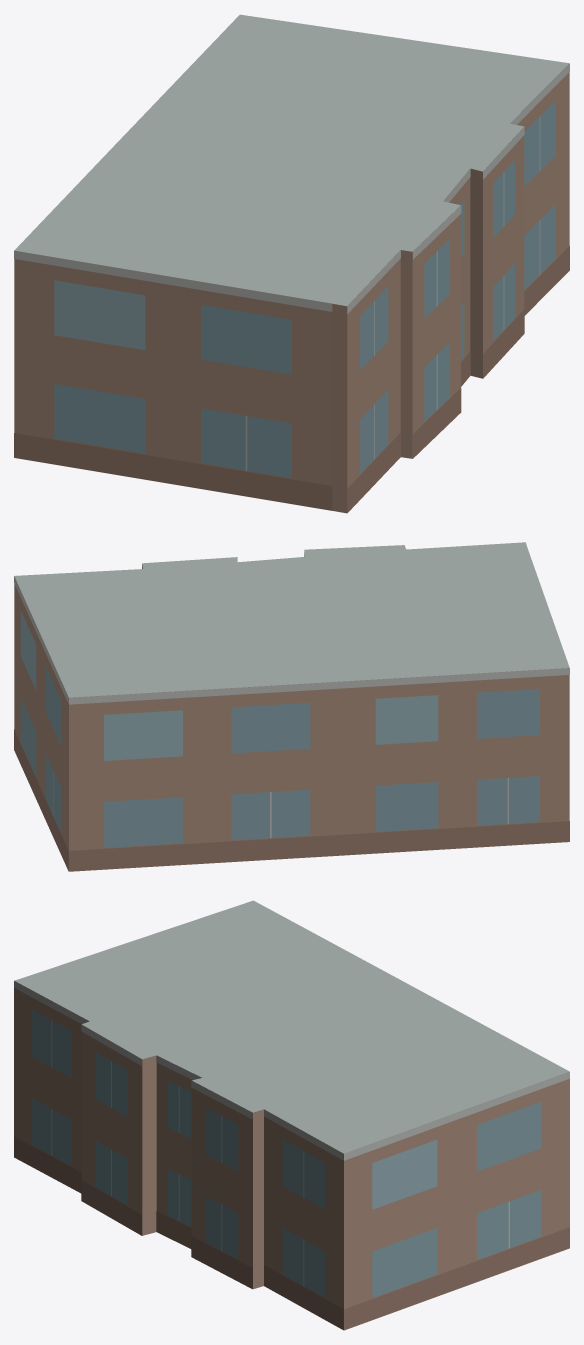
File: survey-upis-32936479.glb
3 views of the same model, one above another, from view 1: azimuth 30°, elevation 25°; view 2: azimuth 150°, elevation 25°; view 3: azimuth 270°, elevation 25° (orthographic). The views are drawn at different scales.
Visible parts, largest first — view 1: survey-upis-32936479.tmp; view 2: survey-upis-32936479.tmp; view 3: survey-upis-32936479.tmp.
Part boxes in pixels (x1,y1,x2,y2): survey-upis-32936479.tmp: (14,14,569,513); survey-upis-32936479.tmp: (14,542,569,871); survey-upis-32936479.tmp: (14,900,569,1330).
Size of the model in its own units: 18.76 by 6.1 by 17.4.
